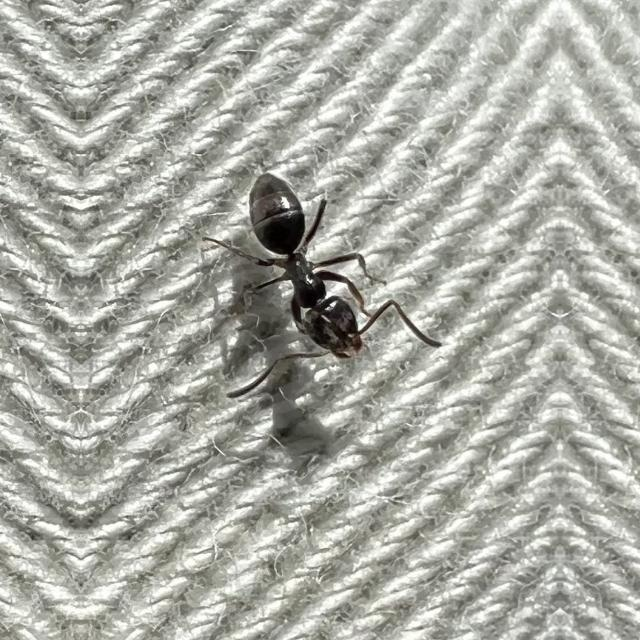Tapinoma: (225, 153, 395, 384)
